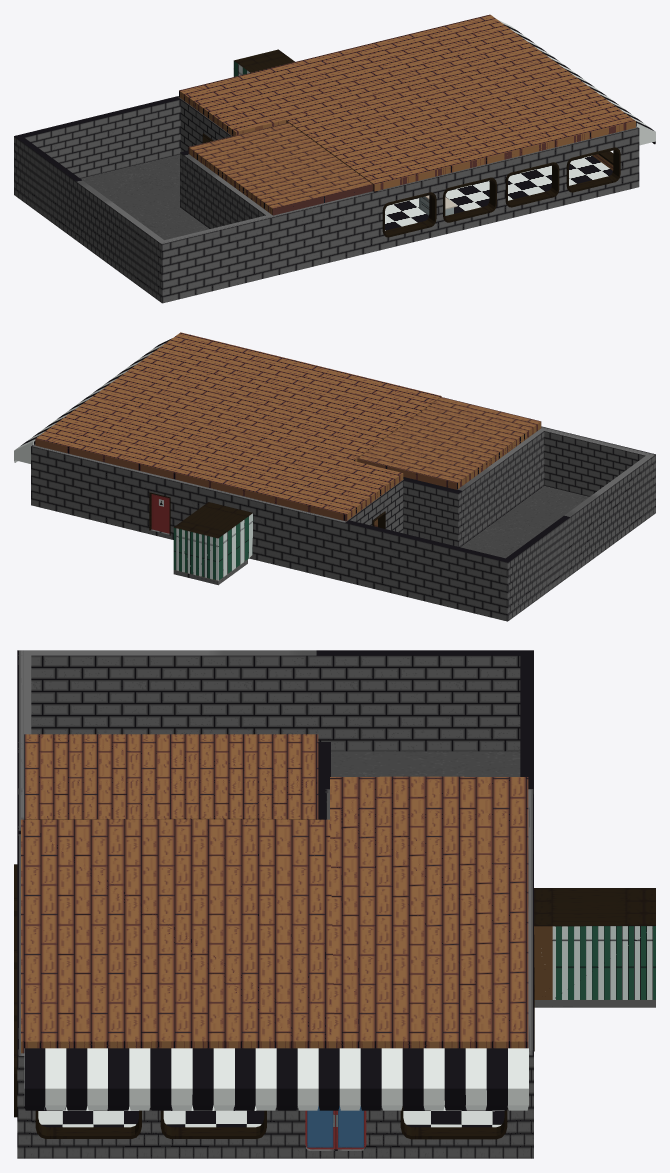
The model's file is Projetoprontotemqueestarprontoeunaoguentomais.fbx.
3 renders of one model, top to bottom at view 1: azimuth 30°, elevation 25°; view 2: azimuth 150°, elevation 25°; view 3: azimuth 270°, elevation 25°, orthographic. The views are drawn at different scales.
Visible parts, largest first — view 1: Chão cozinha.001, O Cafe, Paredes Back Alley, Chao Escritório.001, Chão Back Alley, Chão cozinha, Janelas, Flanela, teto banheiro; view 2: Chão cozinha.001, O Cafe, Paredes Back Alley, Chao Escritório.001, Chão Back Alley, Parede banheiro, teto banheiro, Flanela, Porta Baheiro F; view 3: Chão cozinha.001, Paredes Back Alley, Flanela, O Cafe, Chao Escritório.001, Parede banheiro, Chão cozinha, Janelas, Chão Back Alley, teto banheiro, Porta do Café.
Part boxes in pixels (<box>): Chão cozinha.001: <box>179,14,635,191</box>; O Cafe: <box>14,96,639,303</box>; Paredes Back Alley: <box>24,99,265,228</box>; Chao Escritório.001: <box>188,122,372,215</box>; Chão Back Alley: <box>81,154,209,239</box>; Chão cozinha: <box>385,155,612,230</box>; Janelas: <box>382,147,620,237</box>; Flanela: <box>498,20,655,145</box>; teto banheiro: <box>234,49,294,72</box>; Chão cozinha.001: <box>35,332,441,521</box>; O Cafe: <box>31,426,655,621</box>; Paredes Back Alley: <box>349,431,645,546</box>; Chao Escritório.001: <box>357,397,541,489</box>; Chão Back Alley: <box>460,486,589,558</box>; Parede banheiro: <box>173,513,253,580</box>; teto banheiro: <box>174,502,252,538</box>; Flanela: <box>14,338,172,463</box>; Porta Baheiro F: <box>151,494,169,533</box>; Chão cozinha.001: <box>21,776,528,1053</box>; Paredes Back Alley: <box>31,655,520,751</box>; Flanela: <box>24,1048,528,1110</box>; O Cafe: <box>17,650,655,1158</box>; Chao Escritório.001: <box>24,734,318,819</box>; Parede banheiro: <box>534,926,655,999</box>; Chão cozinha: <box>38,1105,504,1127</box>; Janelas: <box>14,864,507,1139</box>; Chão Back Alley: <box>331,751,520,776</box>; teto banheiro: <box>534,888,655,926</box>; Porta do Café: <box>305,1106,366,1149</box>.
Bounding box in the file's own units: 3582 × 457 × 2306.
16 materials, 16 textured.
